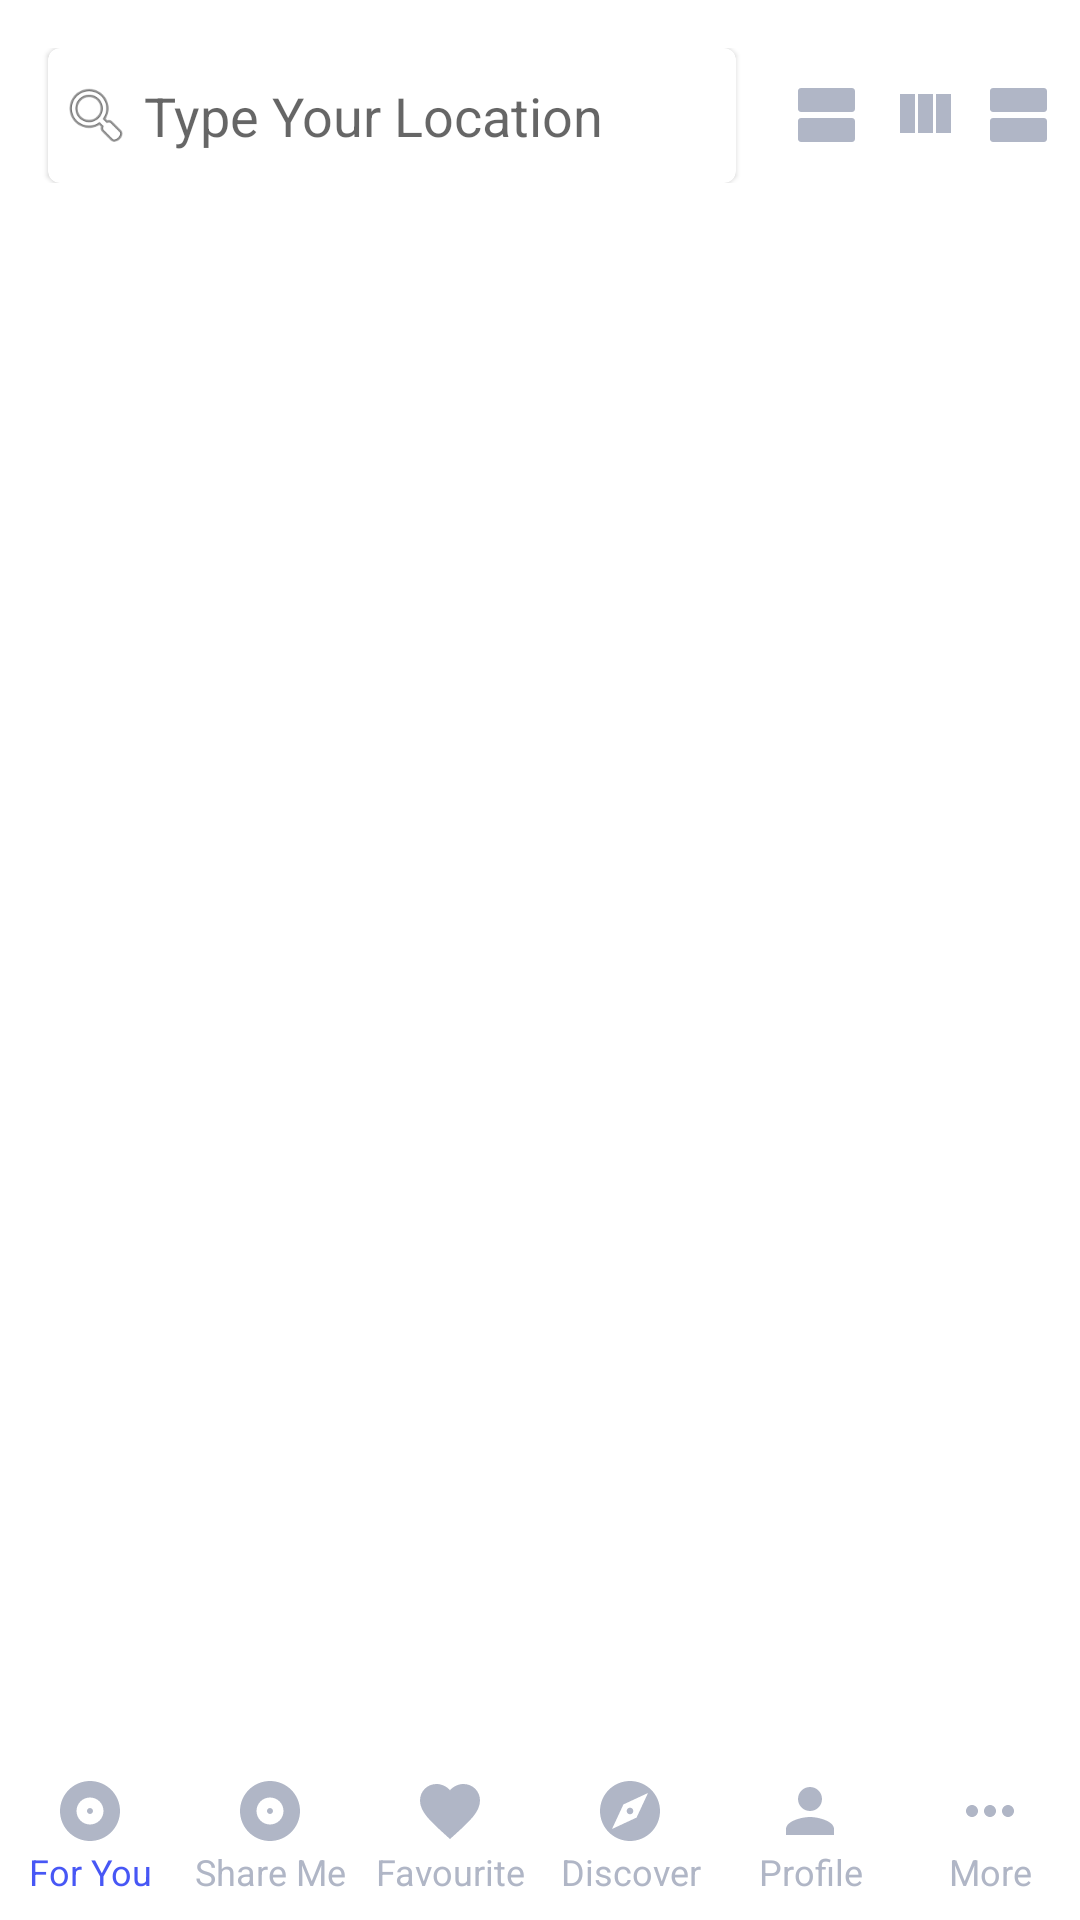

Named icons in this screenshot (1080px×1920px) and their centers, point (x, y):
search: point (96, 115)
view column: point (925, 113)
view horizontal: point (826, 115), point (1018, 115)
